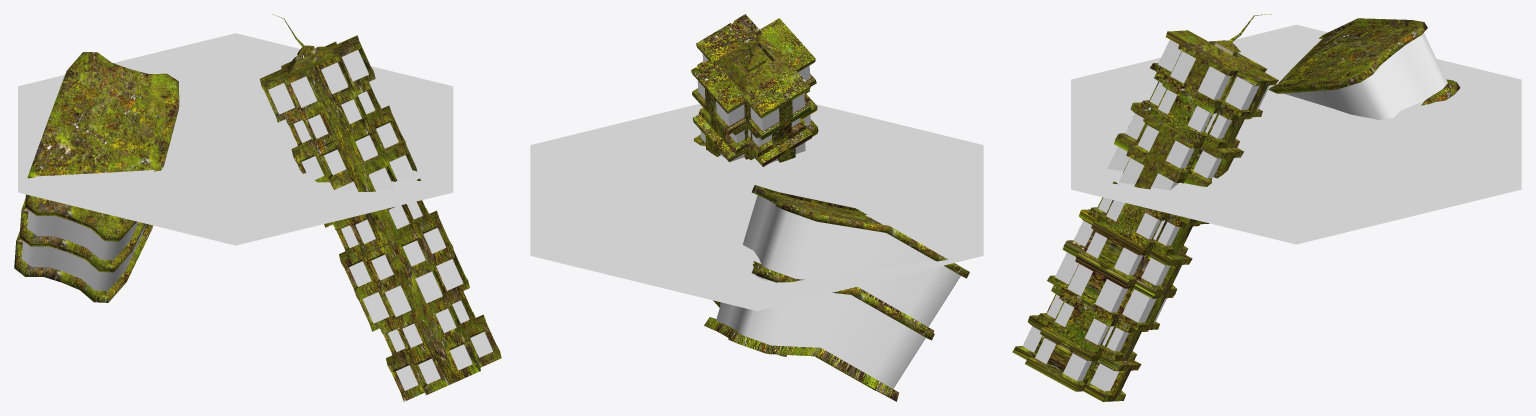
The model's file is ruins.glb.
The picture shows the model from 3 angles, left to right: view 1: azimuth 30°, elevation 25°; view 2: azimuth 150°, elevation 25°; view 3: azimuth 270°, elevation 25°; orthographic projection. The views are drawn at different scales.
Visible parts, largest first — view 1: Downtown Center City.013, Hex; view 2: Hex, Downtown Center City.013; view 3: Downtown Center City.013, Hex.
Part boxes in pixels (<box>): Downtown Center City.013: <box>14,14,501,401</box>; Hex: <box>18,33,453,245</box>; Hex: <box>530,103,983,310</box>; Downtown Center City.013: <box>691,14,969,401</box>; Downtown Center City.013: <box>1012,14,1460,401</box>; Hex: <box>1071,24,1521,244</box>.
Size of the model in its own units: 13.33 by 9.87 by 13.05.
Materials: 2 (1 with a texture image).
